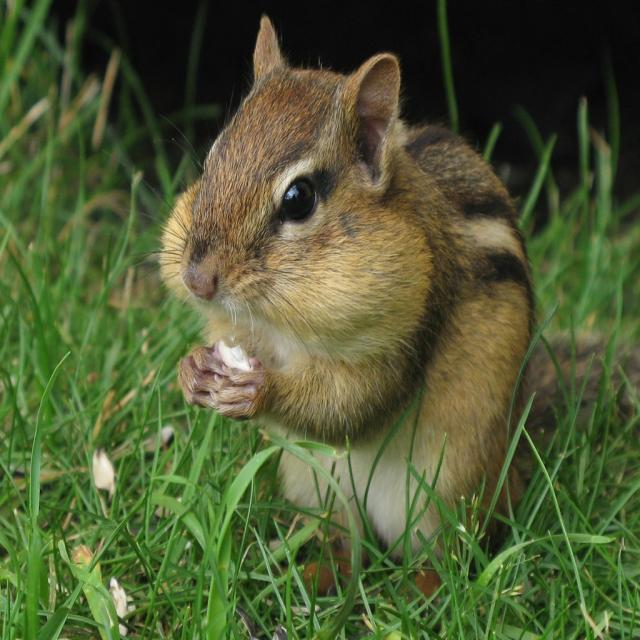rat: (111, 14, 636, 602)
